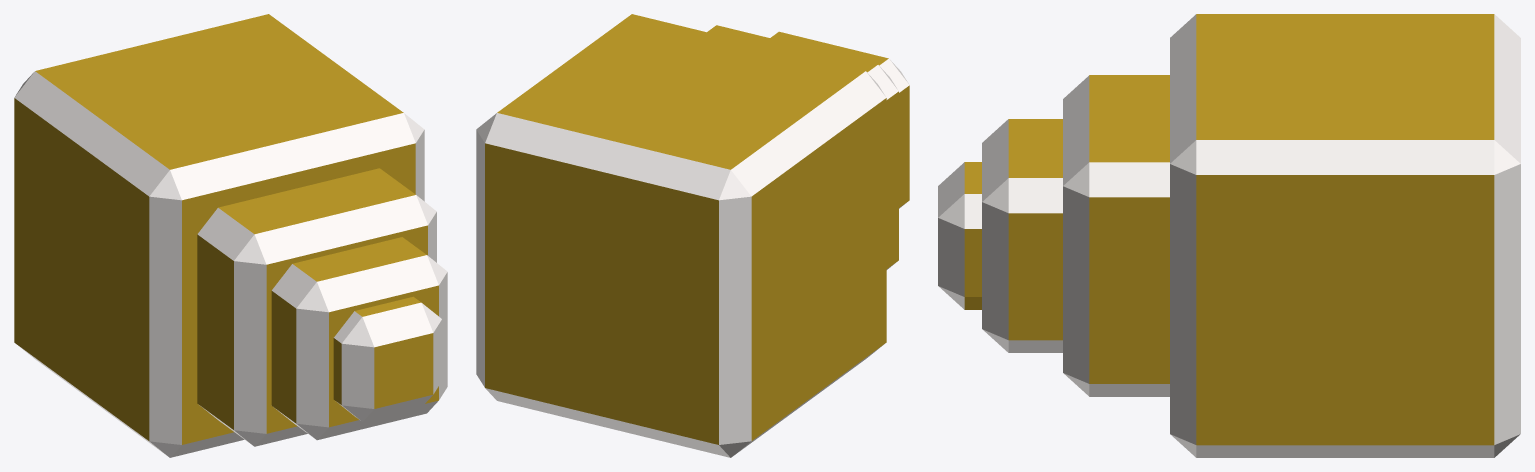
Rendered from bullet.gltf.
3 views of the same model, side by side, from view 1: azimuth 30°, elevation 25°; view 2: azimuth 150°, elevation 25°; view 3: azimuth 270°, elevation 25° (orthographic). The views are drawn at different scales.
Parts seen in each view (by area): view 1: playerBullet; view 2: playerBullet; view 3: playerBullet.
Boxes of the visible parts, x1=… form: playerBullet: x1=14, y1=14, x2=447, y2=457; playerBullet: x1=476, y1=14, x2=909, y2=457; playerBullet: x1=938, y1=14, x2=1520, y2=457.
Bounding box in the file's own units: 2 × 2 × 3.32.
Materials: 1 (1 with a texture image).
